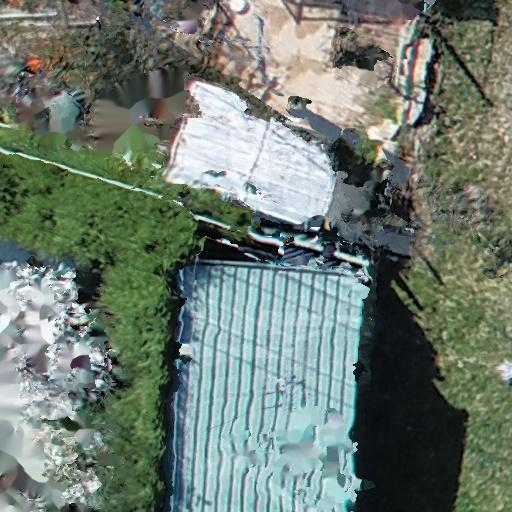stone: (472, 190, 491, 234)
